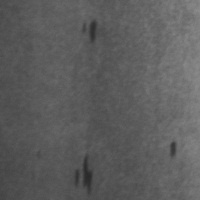inclusion: (72, 152, 96, 197), (78, 16, 101, 47), (167, 138, 180, 161)
